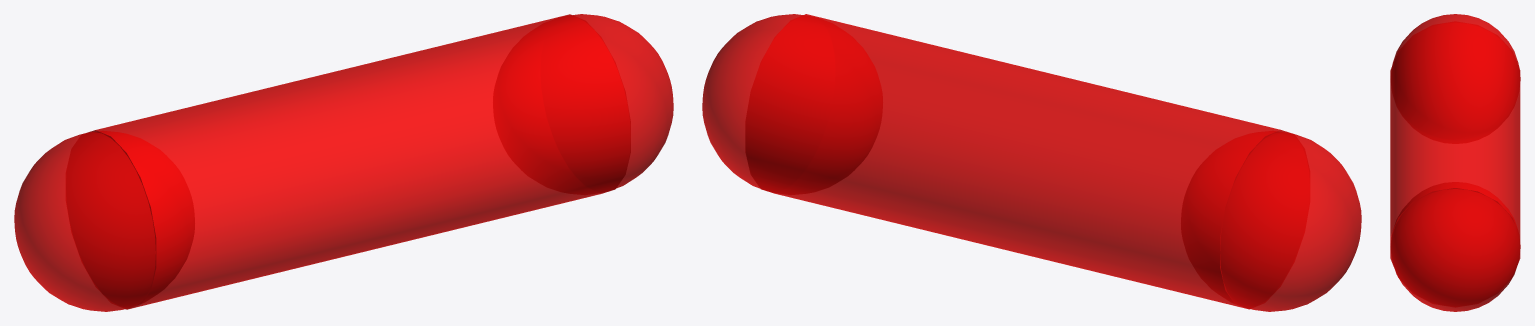
File: bullet.FBX
The picture shows the model from 3 angles, left to right: view 1: azimuth 30°, elevation 25°; view 2: azimuth 150°, elevation 25°; view 3: azimuth 270°, elevation 25°; orthographic projection. The views are drawn at different scales.
Parts seen in each view (by area): view 1: Cylinder001; view 2: Cylinder001; view 3: Cylinder001.
Part boxes in pixels (left/top/right/bottom): Cylinder001: left=14, top=14, right=673, bottom=311; Cylinder001: left=702, top=14, right=1361, bottom=311; Cylinder001: left=1390, top=14, right=1520, bottom=311.
Size of the model in its own units: 2.41 by 0.6041 by 0.5962.
